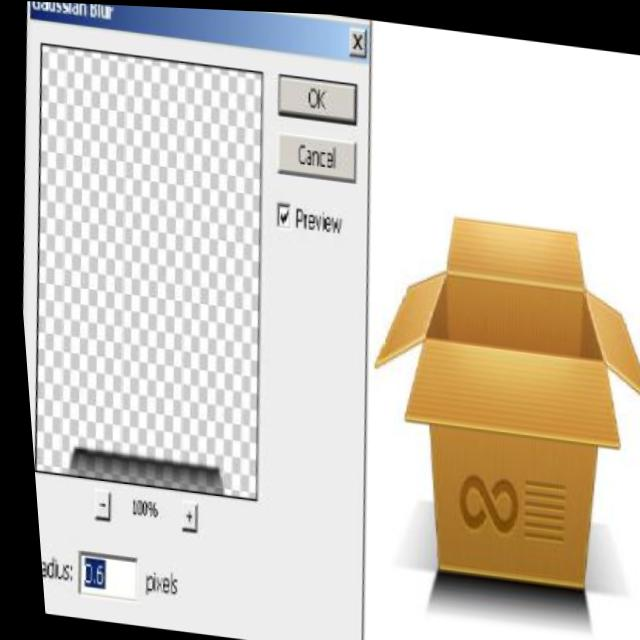box: (339, 164, 640, 613)
